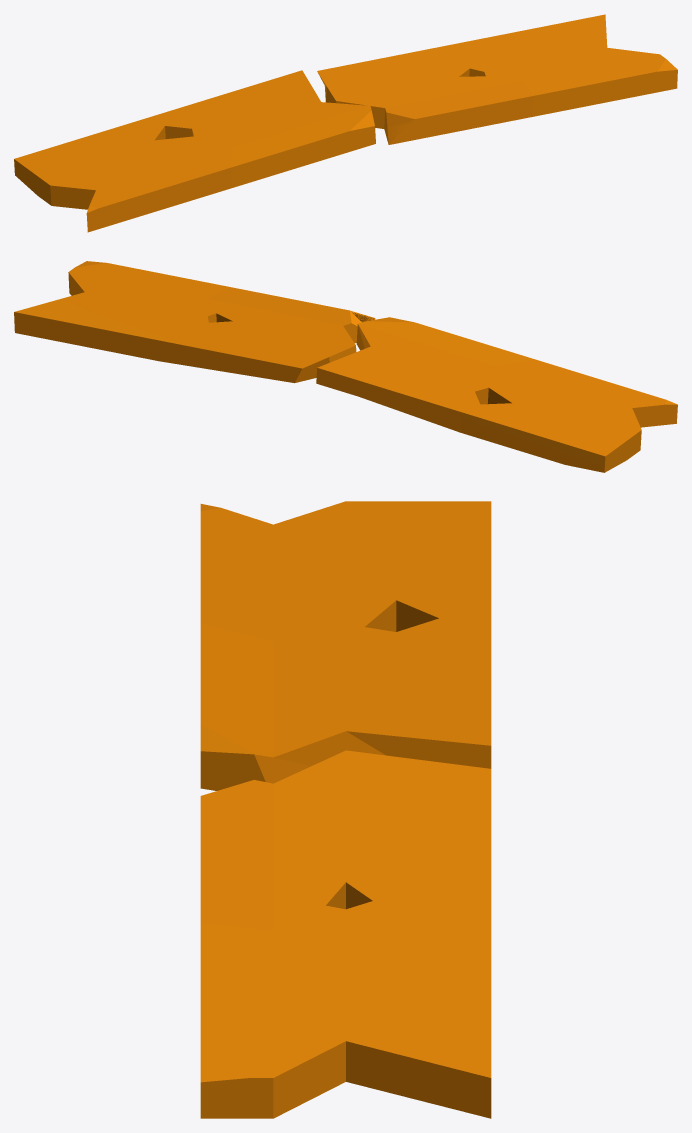
File: Rotten and broken wood_8.fbx
3 renders of one model, top to bottom at view 1: azimuth 30°, elevation 25°; view 2: azimuth 150°, elevation 25°; view 3: azimuth 270°, elevation 25°, orthographic. The views are drawn at different scales.
Visible parts, largest first — view 1: Cube.071, Cube.067; view 2: Cube.071, Cube.067; view 3: Cube.067, Cube.071.
Boxes of the visible parts, box(x1,y1,x2,y2) form: Cube.071: box(14, 70, 375, 232); Cube.067: box(317, 14, 677, 144); Cube.071: box(316, 317, 677, 472); Cube.067: box(14, 261, 375, 383); Cube.067: box(200, 750, 491, 1118); Cube.071: box(200, 501, 491, 790).
Bounding box in the file's own units: 61.44 × 3.97 × 13.07.
